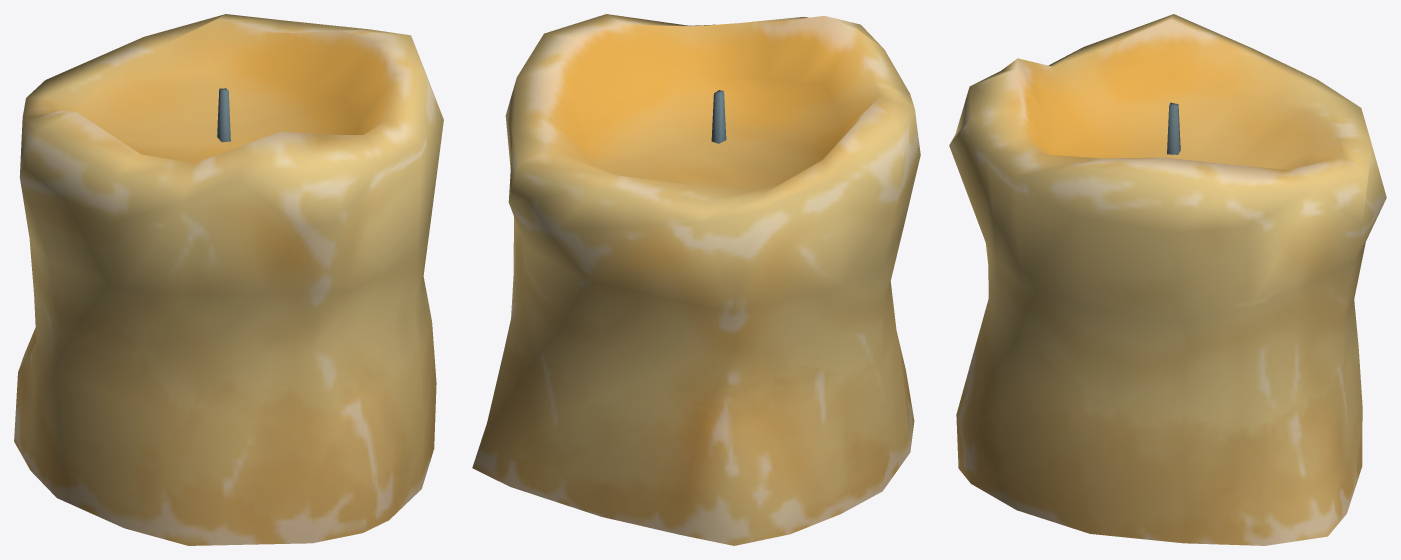
Rendered from Candle_3.fbx.
The picture shows the model from 3 angles, left to right: view 1: azimuth 30°, elevation 25°; view 2: azimuth 150°, elevation 25°; view 3: azimuth 270°, elevation 25°; orthographic projection. The views are drawn at different scales.
Parts seen in each view (by area): view 1: Candle_3; view 2: Candle_3; view 3: Candle_3.
Part boxes in pixels (left/top/right/bottom): Candle_3: left=14, top=14, right=443, bottom=545; Candle_3: left=472, top=14, right=920, bottom=545; Candle_3: left=949, top=14, right=1386, bottom=545.
Size of the model in its own units: 15.39 by 14.93 by 15.8.
